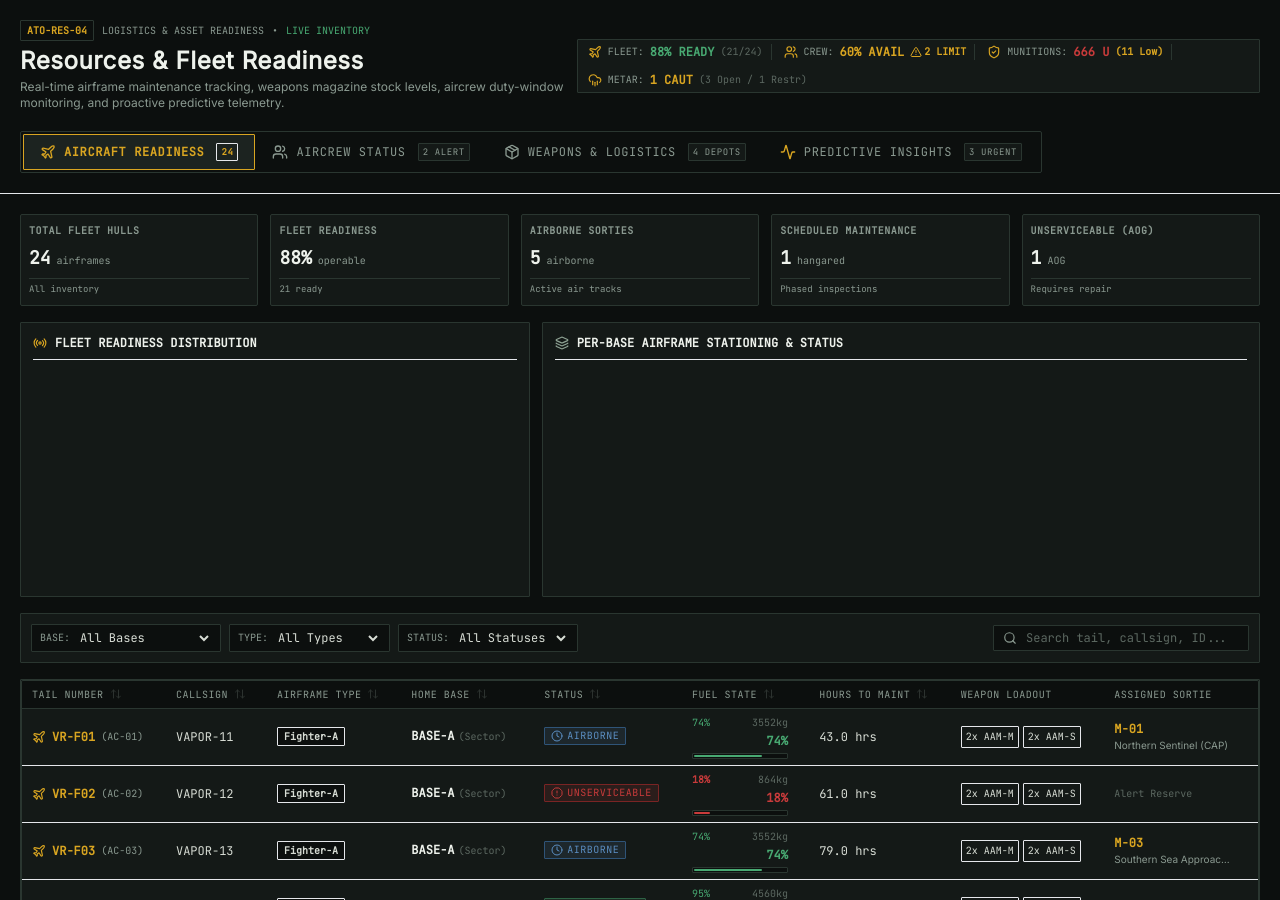
Test case: ResourcesPage (Resource Readiness Views & Logistics) › switches to weapons tab and displays base fuel gauges and inventory matrix
Note: Switch to weapons tab
Click the tab "Weapons & Logistics 4 Depots" at (625,152), box top-left (487, 134), bottom-right (763, 170)
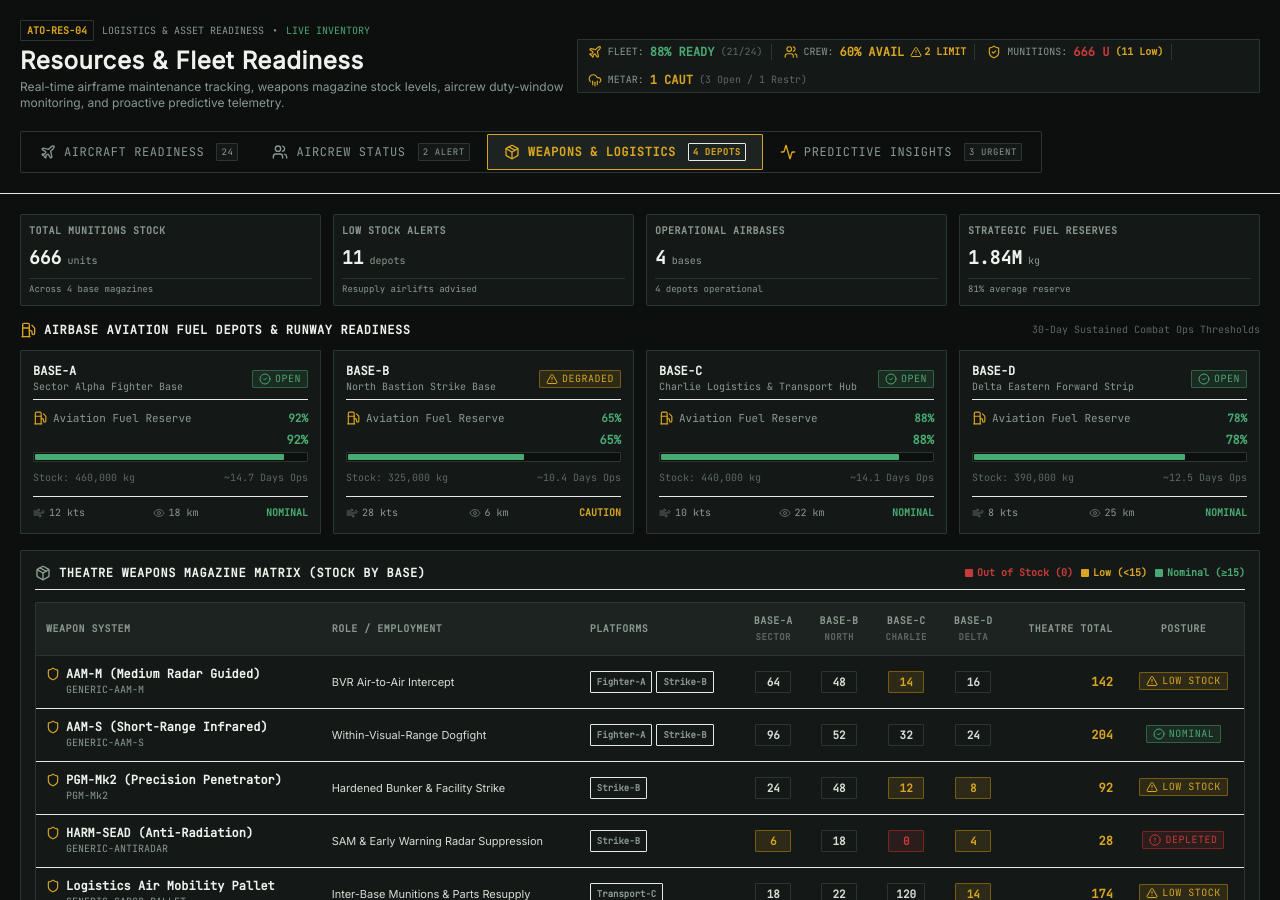
Check: the text "Sector Alpha Fighter Base" is shown, box top-left (33, 378), bottom-right (183, 394)
Check: the text "North Bastion Strike Base" is shown, box top-left (346, 378), bottom-right (496, 394)
Check: the text "Charlie Logistics & Transport Hub" is shown, box top-left (659, 378), bottom-right (857, 394)
